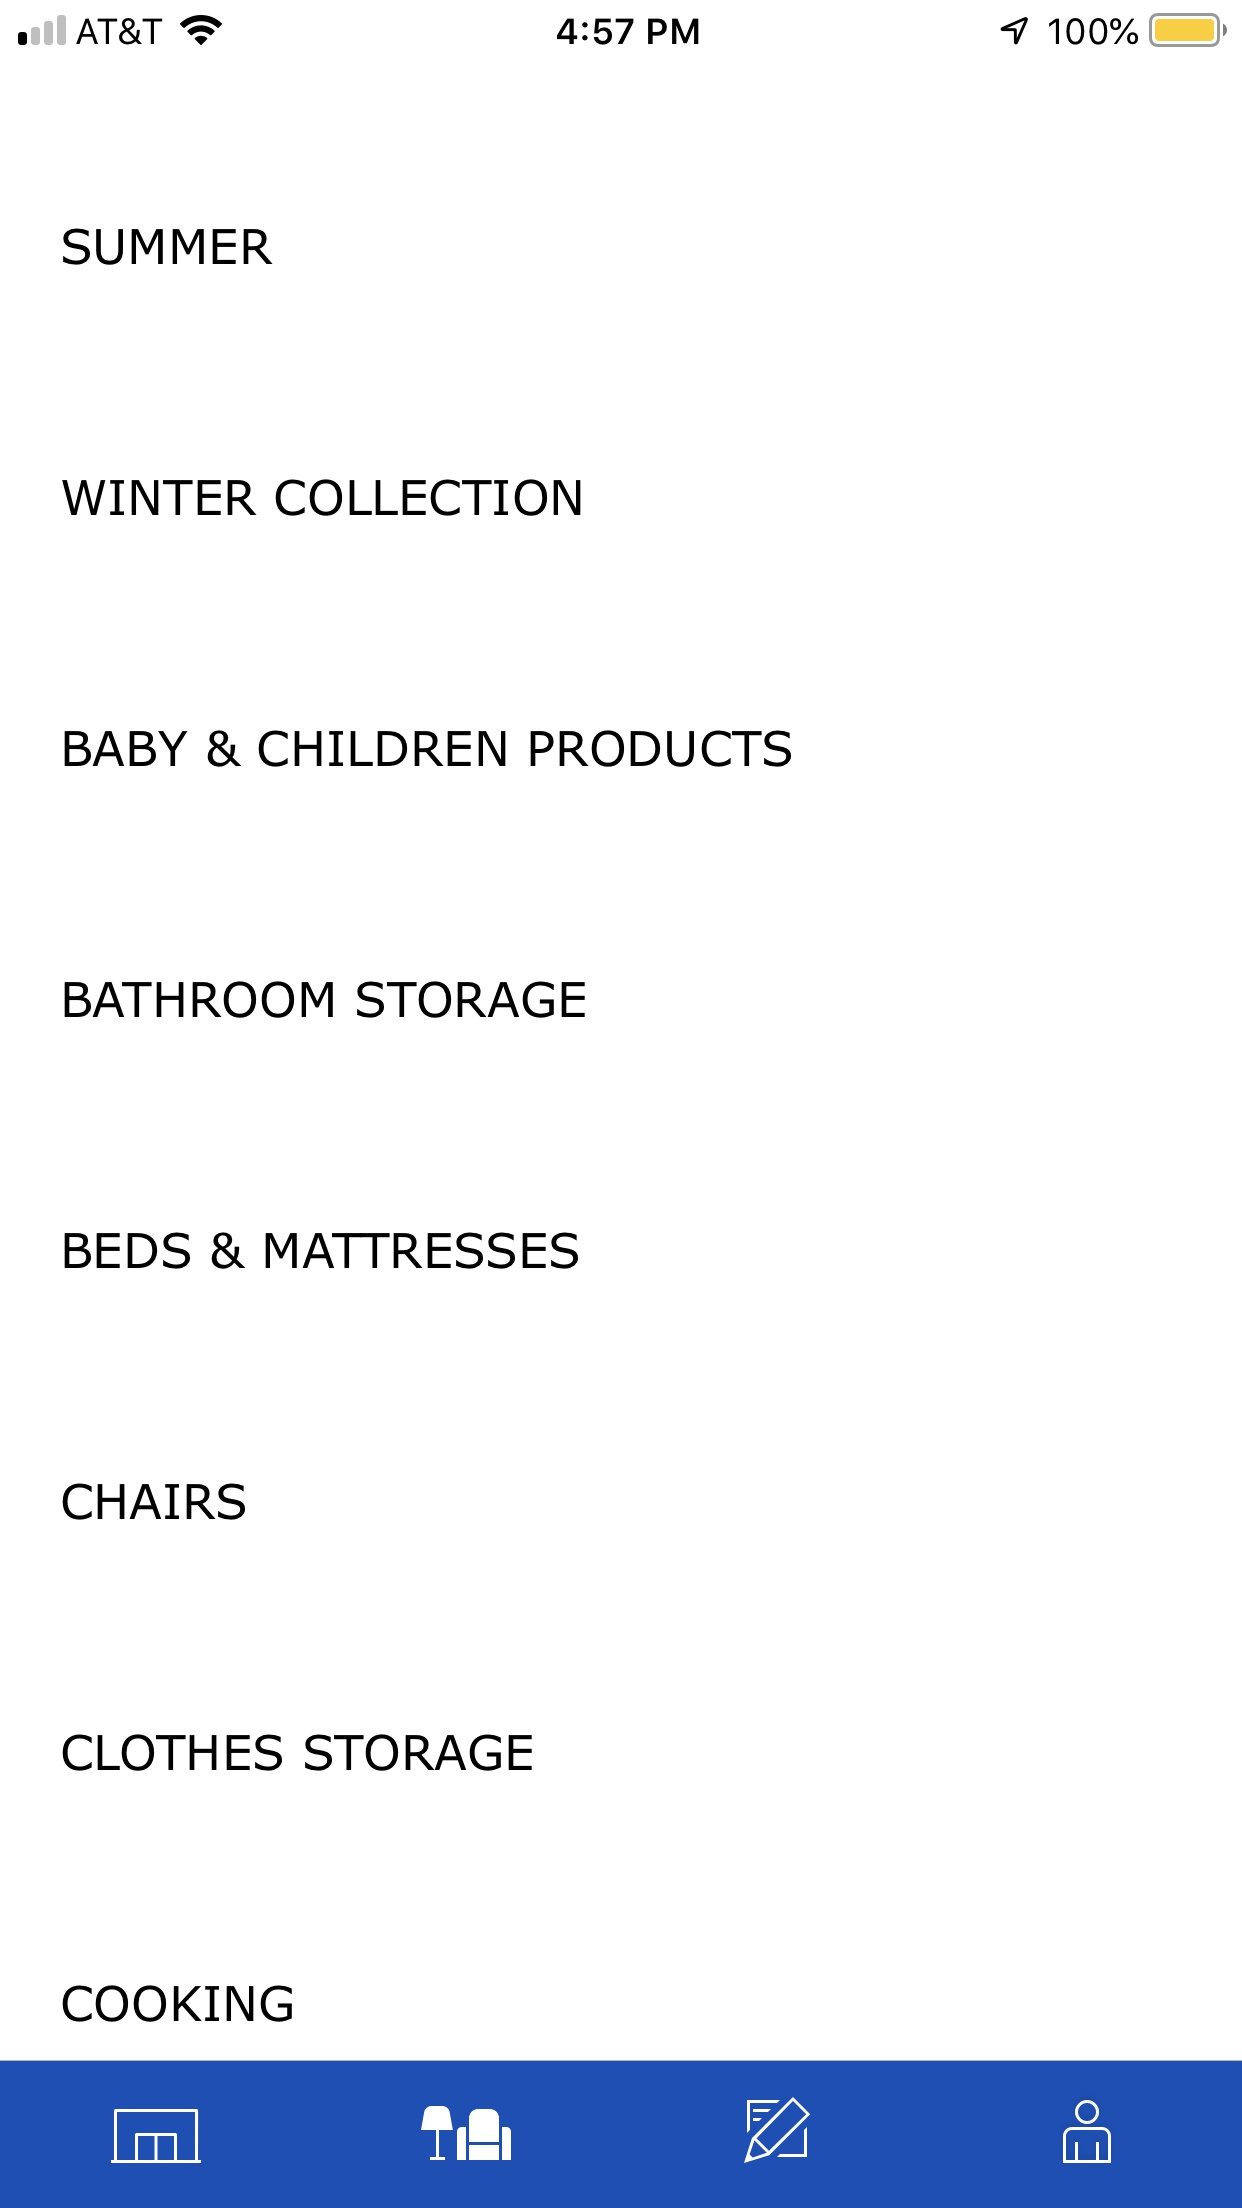Icon: (743, 2097, 811, 2164), (1062, 2099, 1112, 2164)
Image: (111, 2108, 203, 2164), (420, 2105, 513, 2161)
Text: (64, 729, 792, 767), (64, 981, 585, 1019), (64, 1231, 579, 1269), (62, 481, 582, 517), (64, 1733, 532, 1771), (64, 1984, 294, 2023), (64, 227, 274, 265), (64, 1483, 247, 1521)
UpperTaskBar: (2, 2, 1242, 49)
